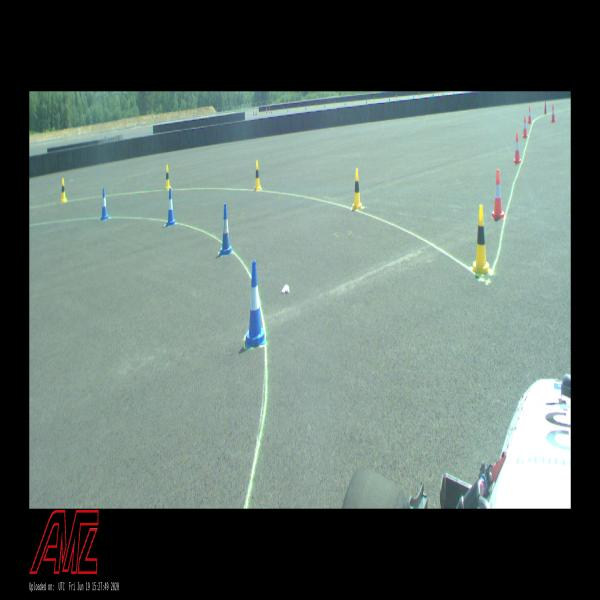blue_cone: (244, 260, 266, 348), (220, 204, 234, 256), (166, 188, 176, 226), (101, 188, 109, 220)
orange_cone: (491, 170, 504, 219), (513, 133, 521, 164), (522, 116, 528, 138), (551, 104, 556, 123), (527, 107, 532, 124)
yellow_cone: (473, 205, 489, 273), (352, 168, 361, 210), (254, 160, 261, 190), (165, 165, 171, 190), (61, 178, 67, 202)
